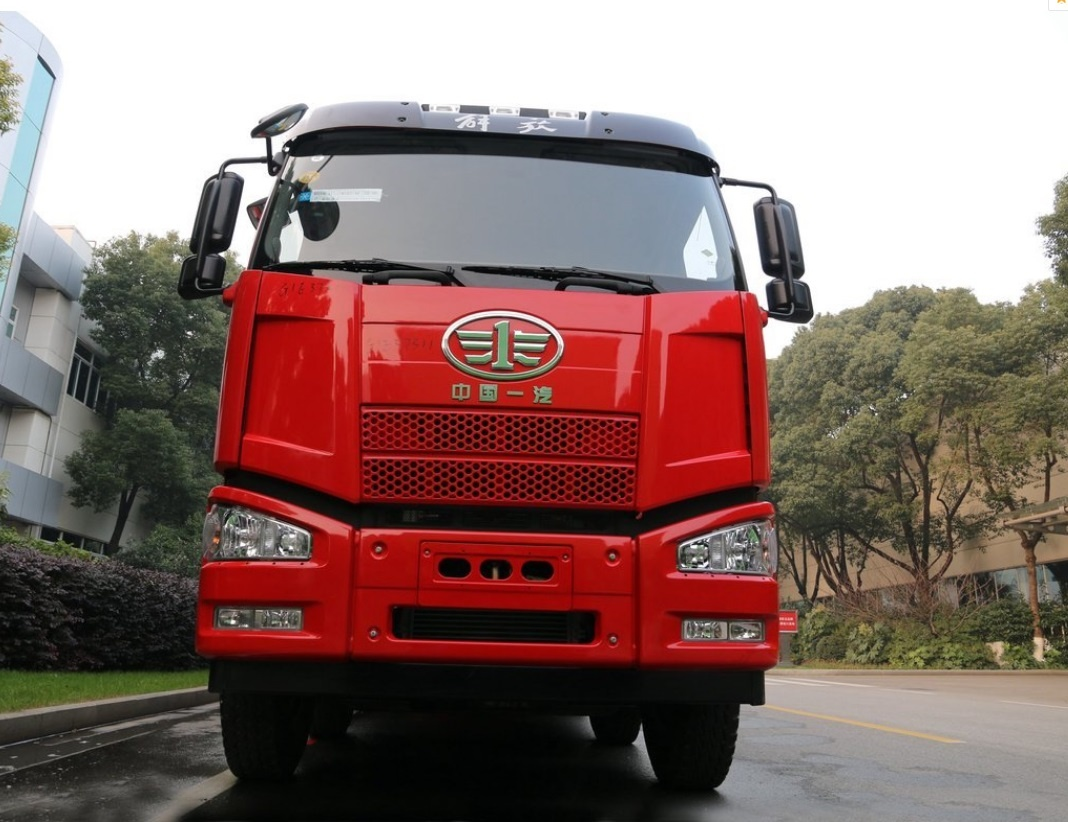heavy truck: (180, 59, 808, 782)
